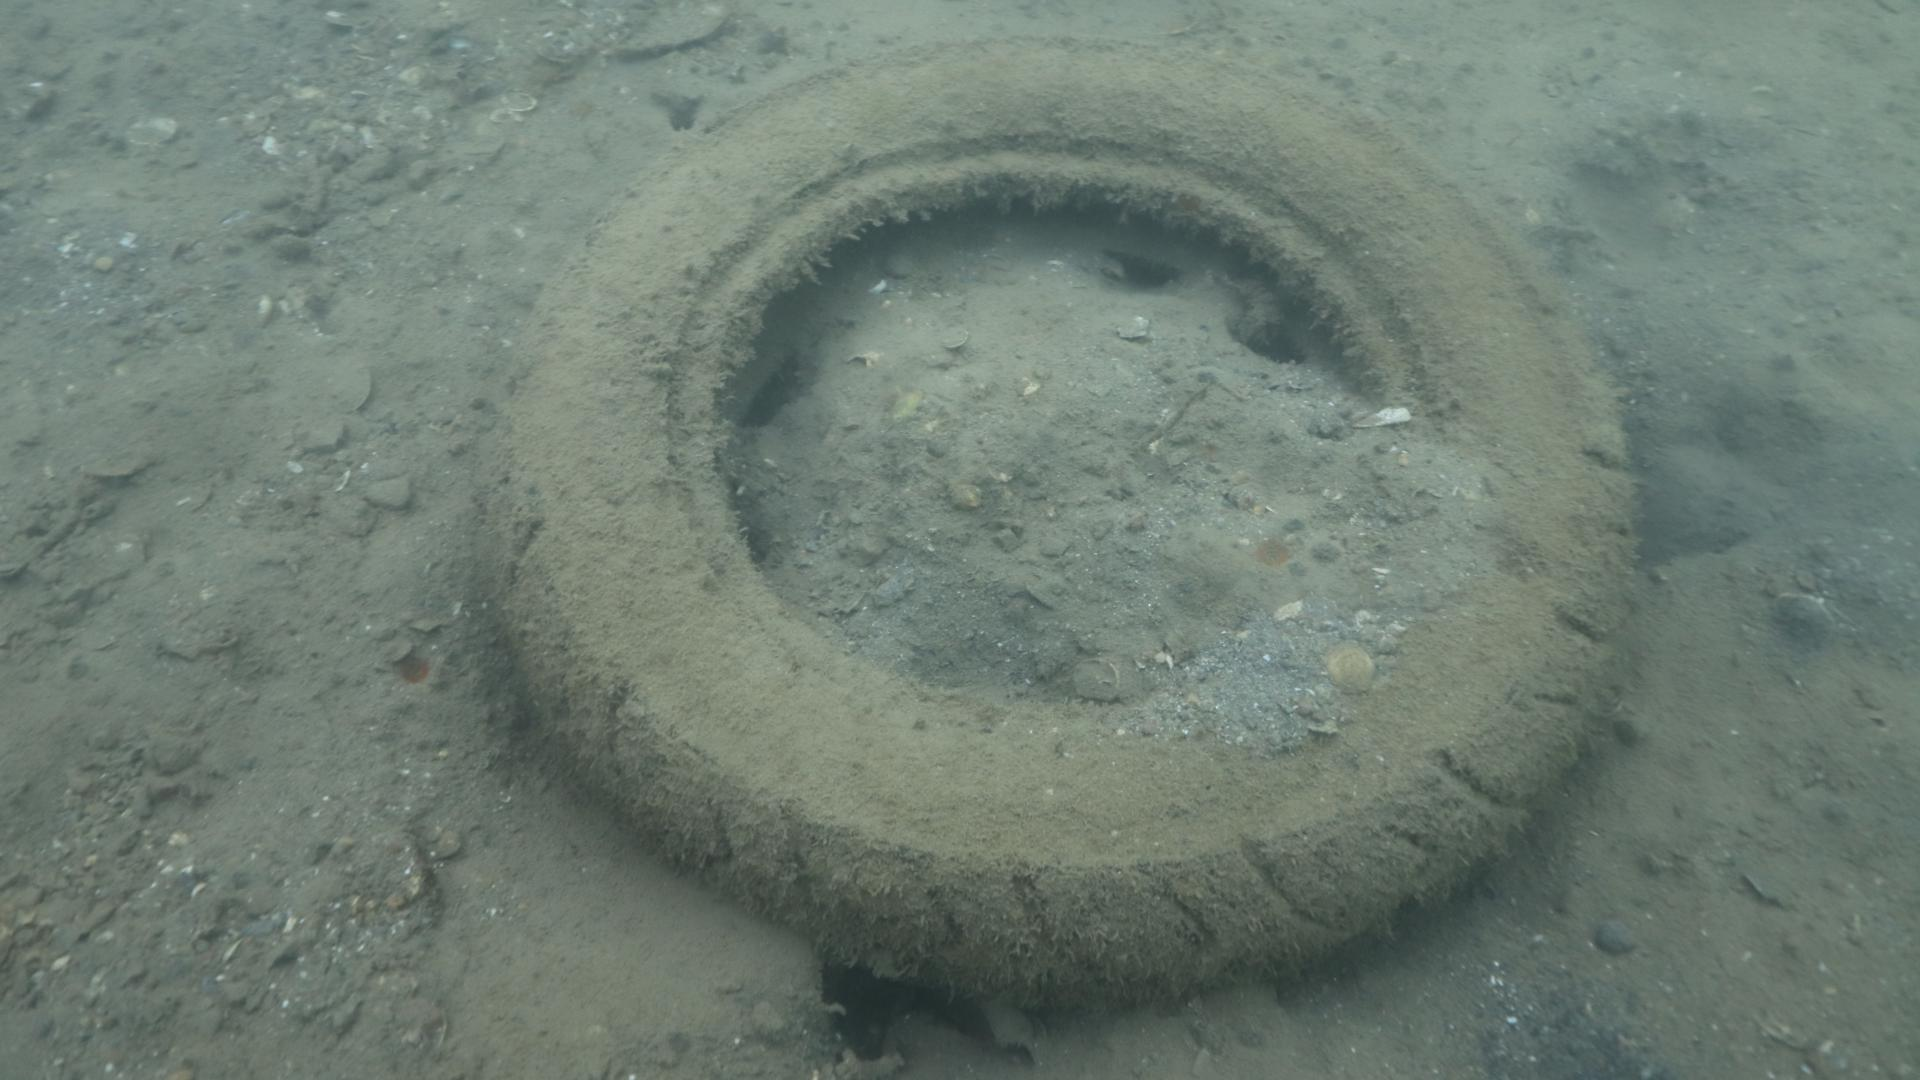tire: (483, 30, 1640, 1011)
